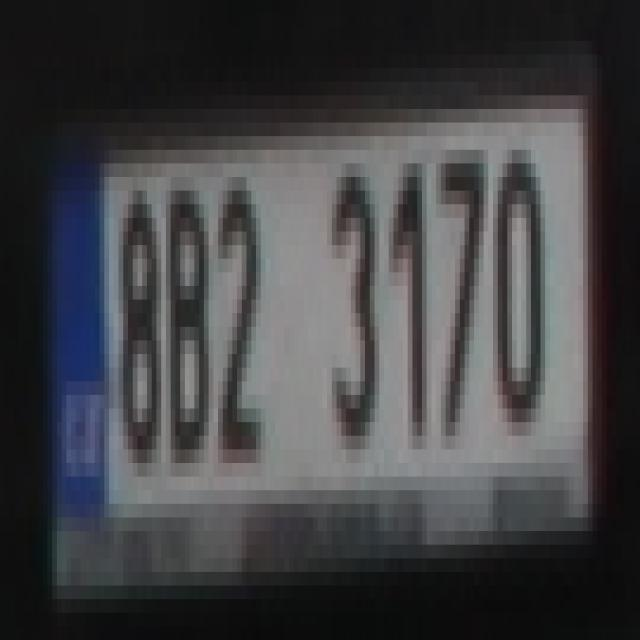0: (493, 136, 550, 436)
1: (389, 163, 436, 463)
2: (213, 163, 261, 463)
3: (327, 177, 375, 449)
7: (441, 123, 488, 422)
8: (114, 204, 166, 463)
B: (162, 163, 214, 463)
